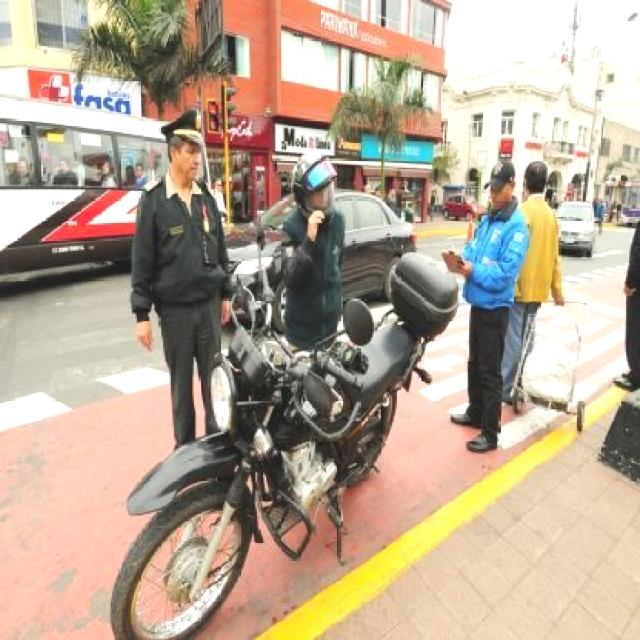Cycle: (109, 252, 458, 638)
